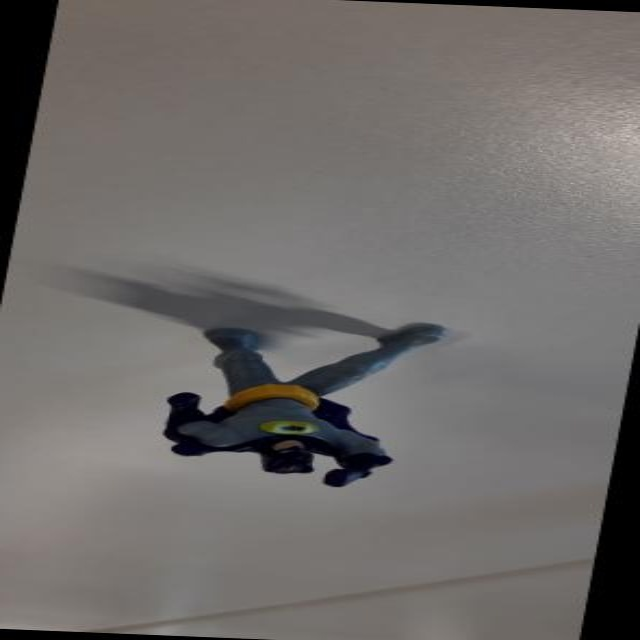Batman: (128, 300, 469, 488)
